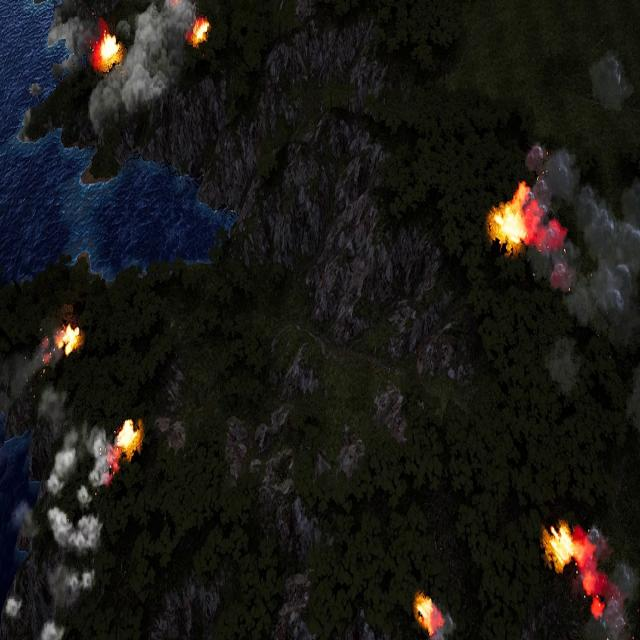fire: (488, 184, 528, 251), (546, 522, 590, 572), (94, 30, 121, 73), (415, 593, 439, 634), (117, 420, 142, 456), (56, 323, 82, 356), (188, 16, 209, 48)
smoke: (0, 328, 120, 640), (528, 142, 640, 354), (92, 0, 196, 125), (576, 527, 640, 640), (588, 50, 638, 118), (430, 607, 452, 640)
